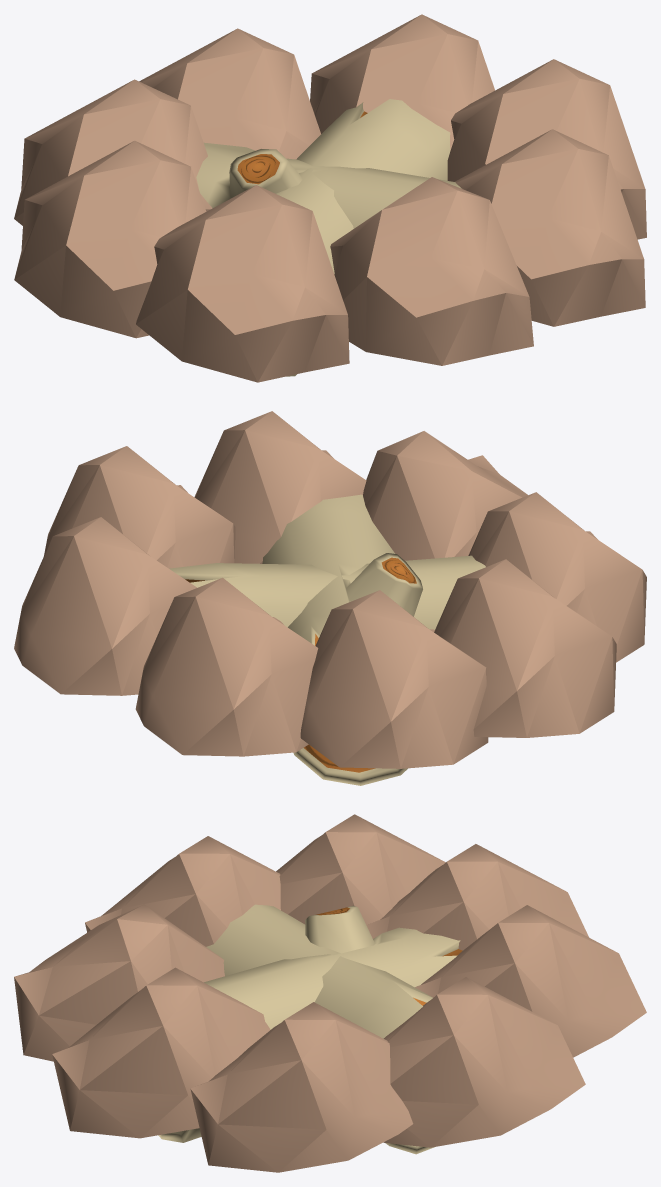
Rendered from CampFire.fbx.
3 views of the same model, one above another, from view 1: azimuth 30°, elevation 25°; view 2: azimuth 150°, elevation 25°; view 3: azimuth 270°, elevation 25° (orthographic). The views are drawn at different scales.
Parts seen in each view (by area): view 1: Rock (1), Rock, Rock (2), Rock (7), Rock (6), Rock (4), Rock (5), Rock (3), WoodStack (2), WoodStack (1); view 2: Rock (3), Rock (4), Rock (2), Rock (5), Rock (1), Rock (7), Rock, WoodStack (1), Rock (6), WoodStack (2); view 3: Rock (6), Rock (5), Rock (7), Rock (4), Rock, WoodStack (1), Rock (2), Rock (3), WoodStack (2), Rock (1).
Part boxes in pixels (x1,y1,x2,y2): Rock (1): [136, 185, 349, 382]; Rock: [330, 177, 533, 365]; Rock (2): [14, 140, 206, 338]; Rock (7): [455, 129, 645, 326]; Rock (6): [447, 59, 646, 239]; Rock (4): [139, 28, 320, 159]; Rock (5): [310, 14, 494, 150]; Rock (3): [14, 79, 212, 225]; WoodStack (2): [276, 99, 450, 376]; WoodStack (1): [196, 142, 461, 228]; Rock (3): [300, 590, 488, 768]; Rock (4): [135, 577, 318, 756]; Rock (2): [434, 559, 616, 737]; Rock (5): [14, 517, 196, 695]; Rock (1): [468, 492, 646, 662]; Rock (7): [194, 411, 366, 563]; Rock: [363, 431, 527, 560]; WoodStack (1): [262, 494, 422, 785]; Rock (6): [44, 446, 235, 568]; WoodStack (2): [169, 555, 485, 629]; Rock (6): [190, 1002, 413, 1172]; Rock (5): [383, 977, 585, 1147]; Rock (7): [52, 967, 270, 1138]; Rock (4): [415, 905, 646, 1057]; Rock: [14, 904, 224, 1061]; WoodStack (1): [158, 905, 462, 1142]; Rock (2): [276, 814, 445, 924]; Rock (3): [366, 844, 588, 950]; WoodStack (2): [206, 904, 434, 1154]; Rock (1): [85, 836, 280, 946].
Bounding box in the file's own units: 2.48 × 0.7958 × 2.48.
